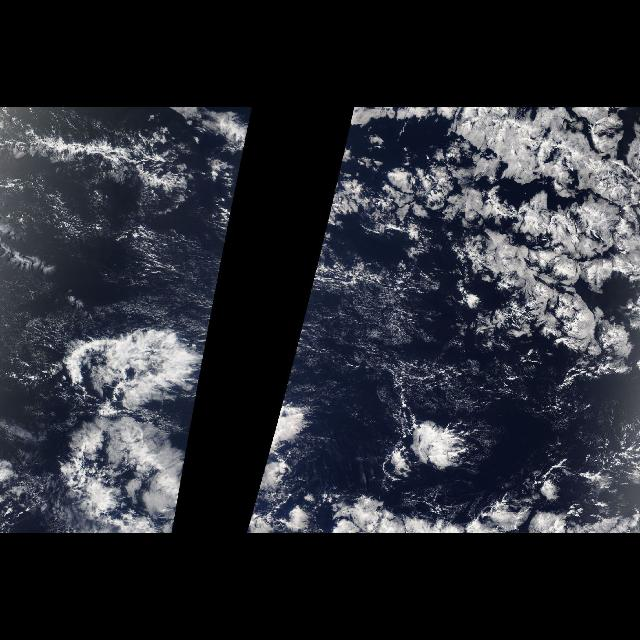Fish: (6, 115, 216, 222)
Flower: (398, 170, 636, 366)
Gravel: (291, 218, 564, 416), (48, 217, 232, 369)
Sugar: (63, 215, 231, 389), (285, 223, 459, 389)
